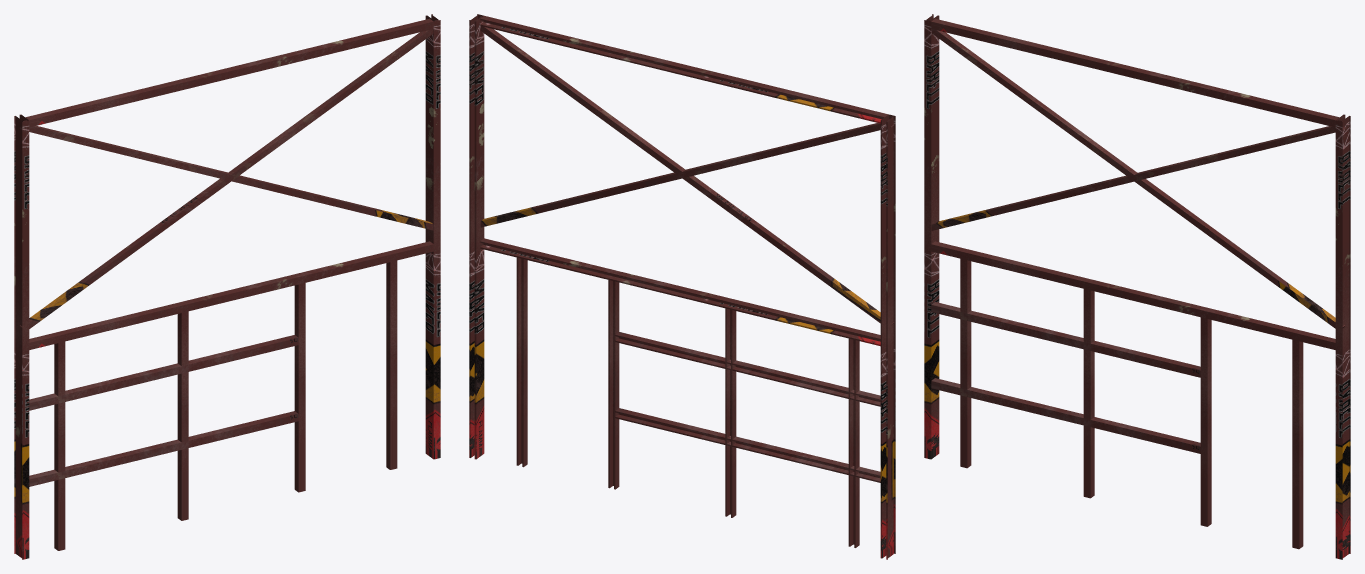
The model's file is CS_formwork_system_large_04.FBX.
3 renders of one model, left to right at view 1: azimuth 30°, elevation 25°; view 2: azimuth 150°, elevation 25°; view 3: azimuth 330°, elevation 25°, orthographic.
Parts seen in each view (by area): view 1: SM_formwork_system_large_04; view 2: SM_formwork_system_large_04; view 3: SM_formwork_system_large_04.
Part boxes in pixels (x1,y1,x2,y2): SM_formwork_system_large_04: (14, 14, 440, 559); SM_formwork_system_large_04: (469, 14, 895, 559); SM_formwork_system_large_04: (924, 14, 1350, 559).
Size of the model in its own units: 600 by 20 by 600.
